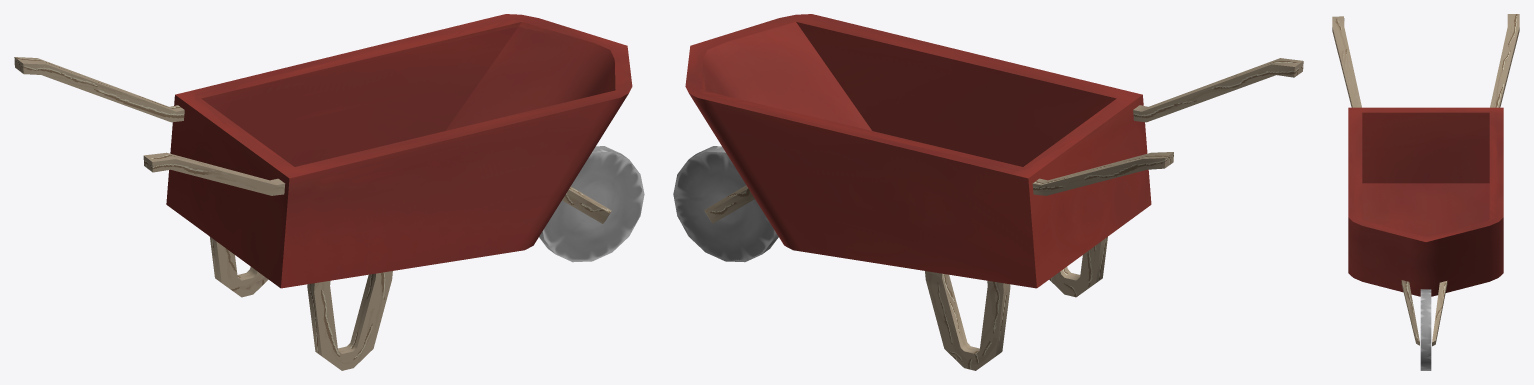
Rendered from wheelbarrow.fbx.
The picture shows the model from 3 angles, left to right: view 1: azimuth 30°, elevation 25°; view 2: azimuth 150°, elevation 25°; view 3: azimuth 270°, elevation 25°; orthographic projection. The views are drawn at different scales.
Visible parts, largest first — view 1: wheelbarrow; view 2: wheelbarrow; view 3: wheelbarrow.
Boxes of the visible parts, x1,y1,x2,y2 form: wheelbarrow: (14, 14, 644, 370); wheelbarrow: (673, 14, 1303, 370); wheelbarrow: (1332, 14, 1519, 370).
Size of the model in its own units: 1043 by 491 by 448.
